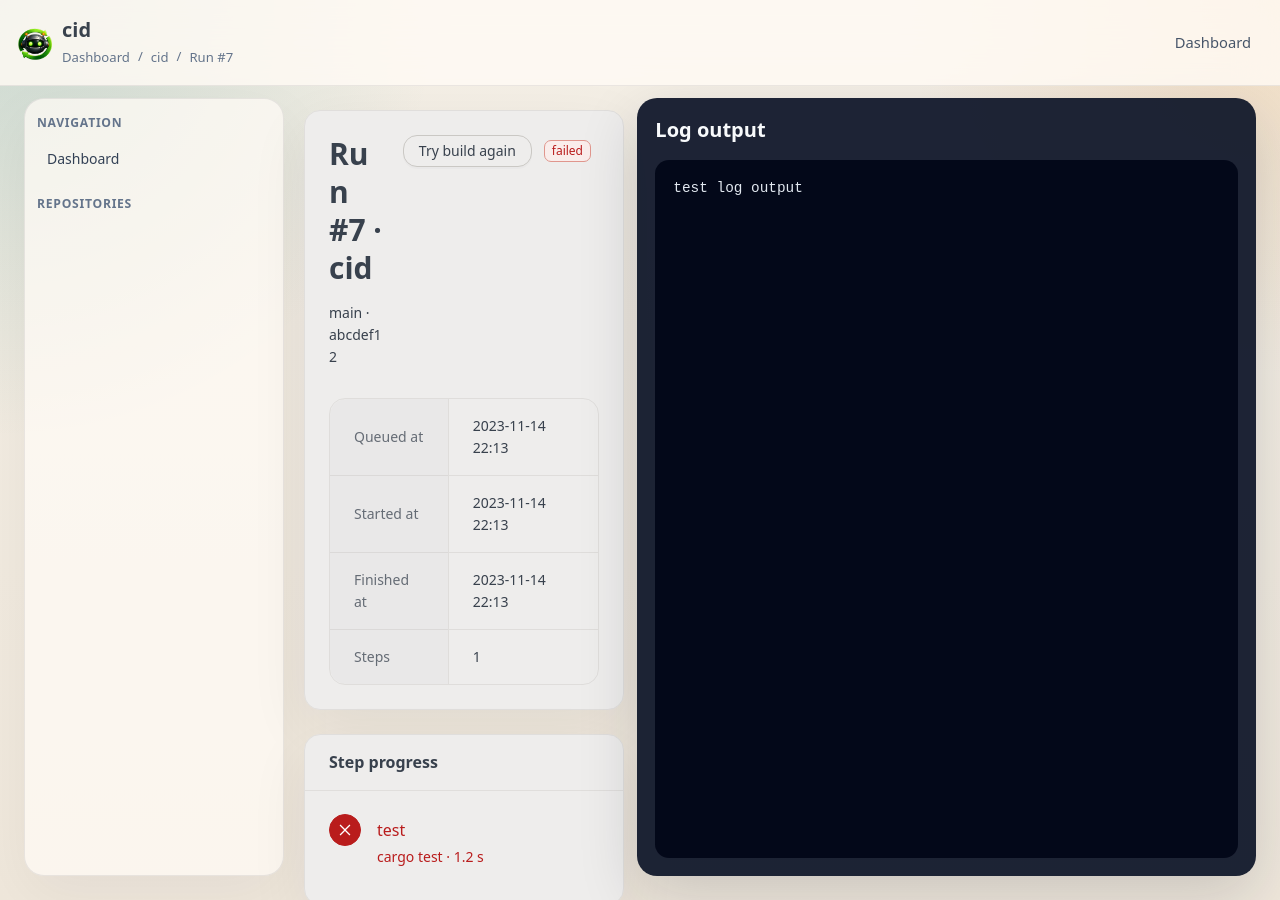
Test: RunDetailPage › replays the run and navigates to the new queued run
The image size is (1280, 900).
Expected: the heading "Run #7 · cid" is shown, [329,135,387,287]
Click the button "Try build again": click(467, 151) [403,135,532,167]
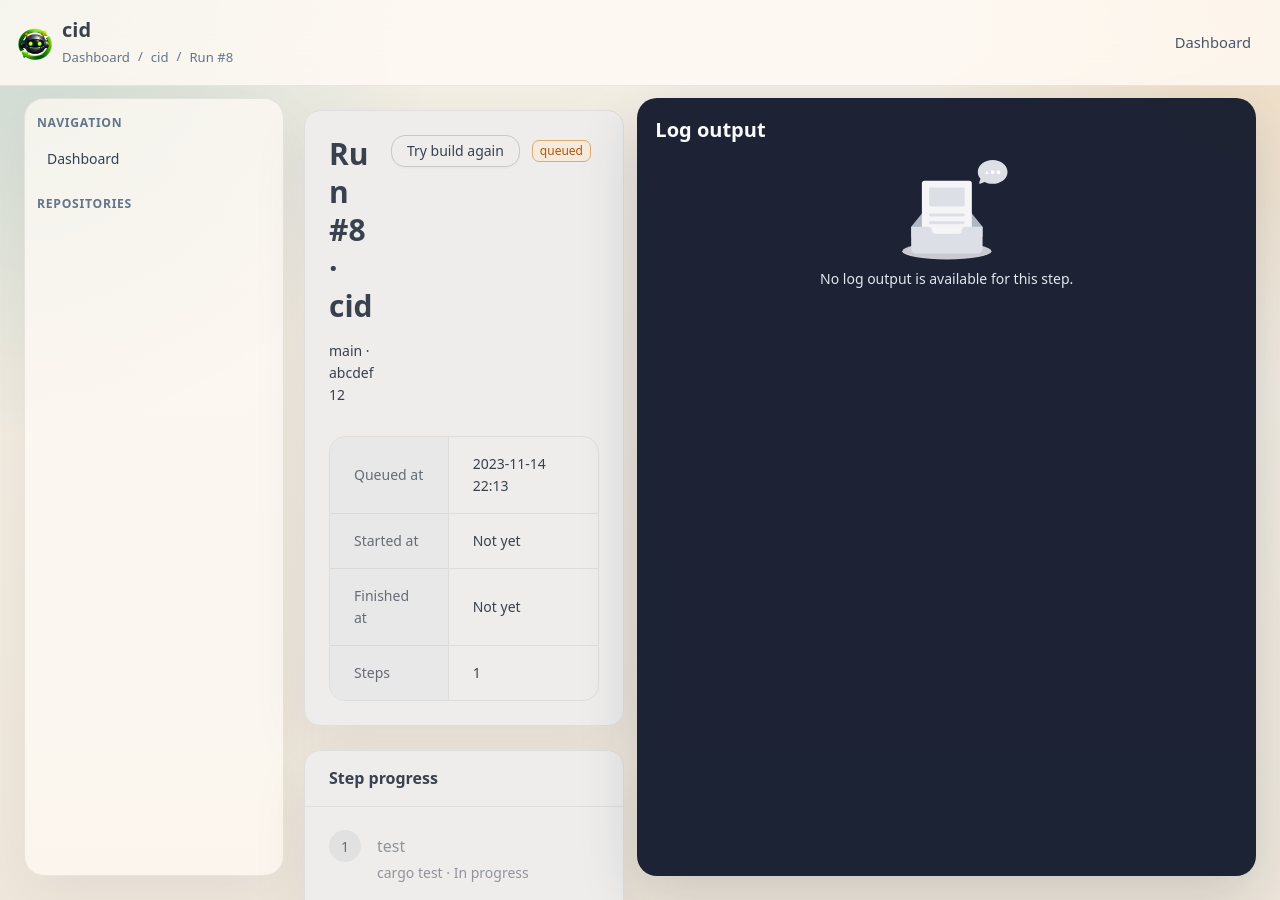
Now the heading "Run #8 · cid" is shown, box [329,135,375,325]
